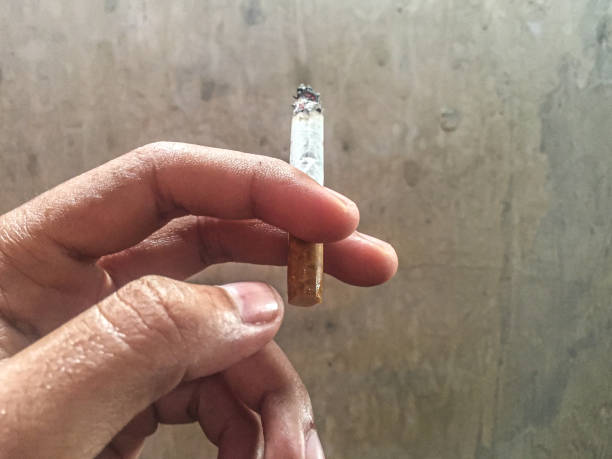cigarette: (284, 83, 328, 307)
